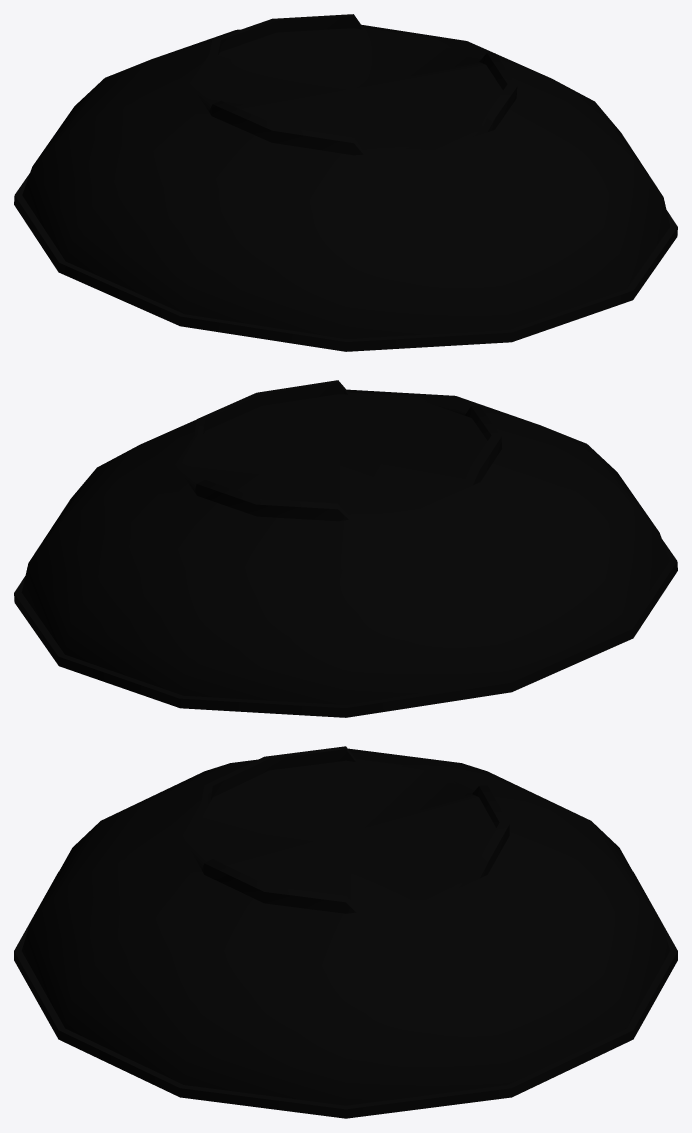
3 views of the same model, one above another, from view 1: azimuth 30°, elevation 25°; view 2: azimuth 150°, elevation 25°; view 3: azimuth 270°, elevation 25° (orthographic).
Visible parts, largest first — view 1: Joint_0_Object_0; view 2: Joint_0_Object_0; view 3: Joint_0_Object_0.
Boxes of the visible parts, x1=… form: Joint_0_Object_0: x1=14, y1=14, x2=677, y2=351; Joint_0_Object_0: x1=14, y1=380, x2=677, y2=717; Joint_0_Object_0: x1=14, y1=746, x2=677, y2=1118.
Bounding box in the file's own units: 507 × 142 × 508.
1 material, 1 textured.
